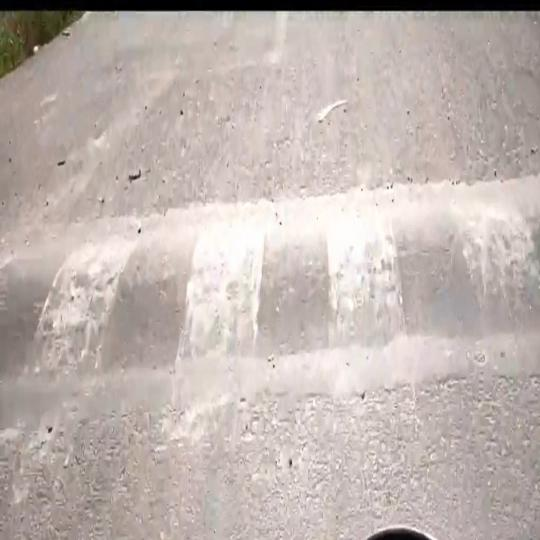Speed Bump: (0, 169, 540, 417)
